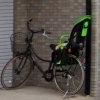bicycles: (0, 17, 86, 95)
